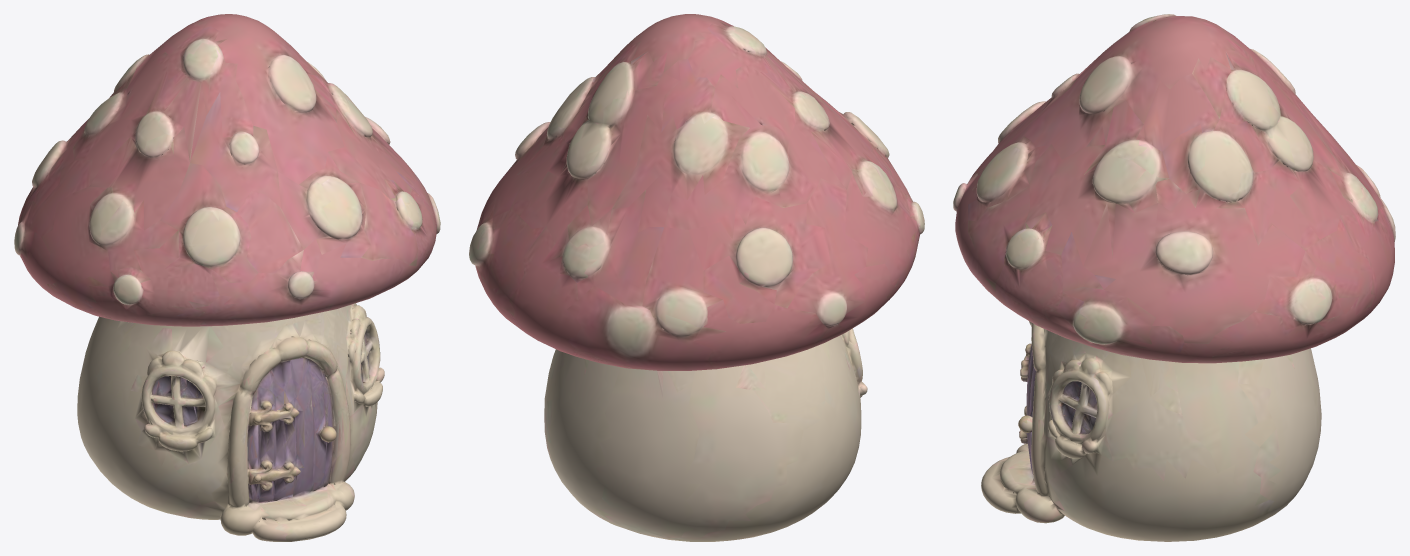
3 views of the same model, side by side, from view 1: azimuth 30°, elevation 25°; view 2: azimuth 150°, elevation 25°; view 3: azimuth 270°, elevation 25° (orthographic). The views are drawn at different scales.
Size of the model in its own units: 1.61 by 1.9 by 1.61.
Materials: 1 (1 with a texture image).
